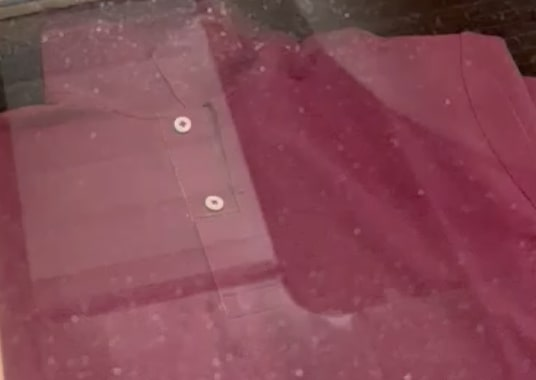button: (201, 192, 229, 214), (170, 113, 194, 135)
